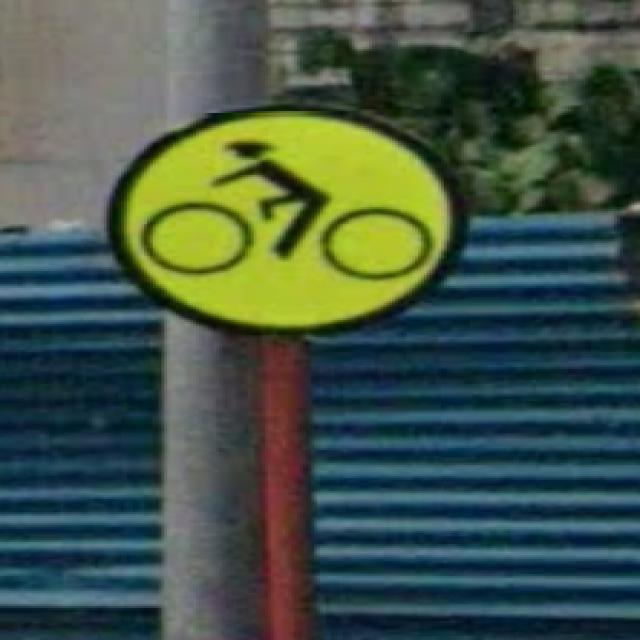bike lane: (104, 102, 461, 333)
